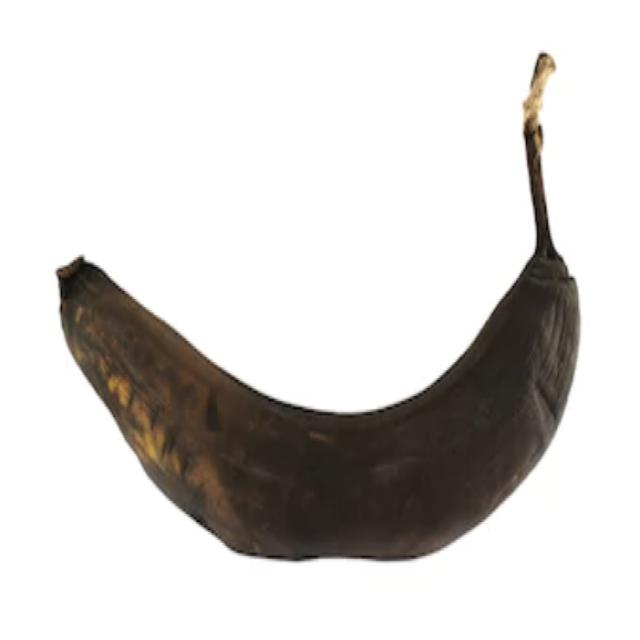rotten-banana: (54, 49, 582, 562)
